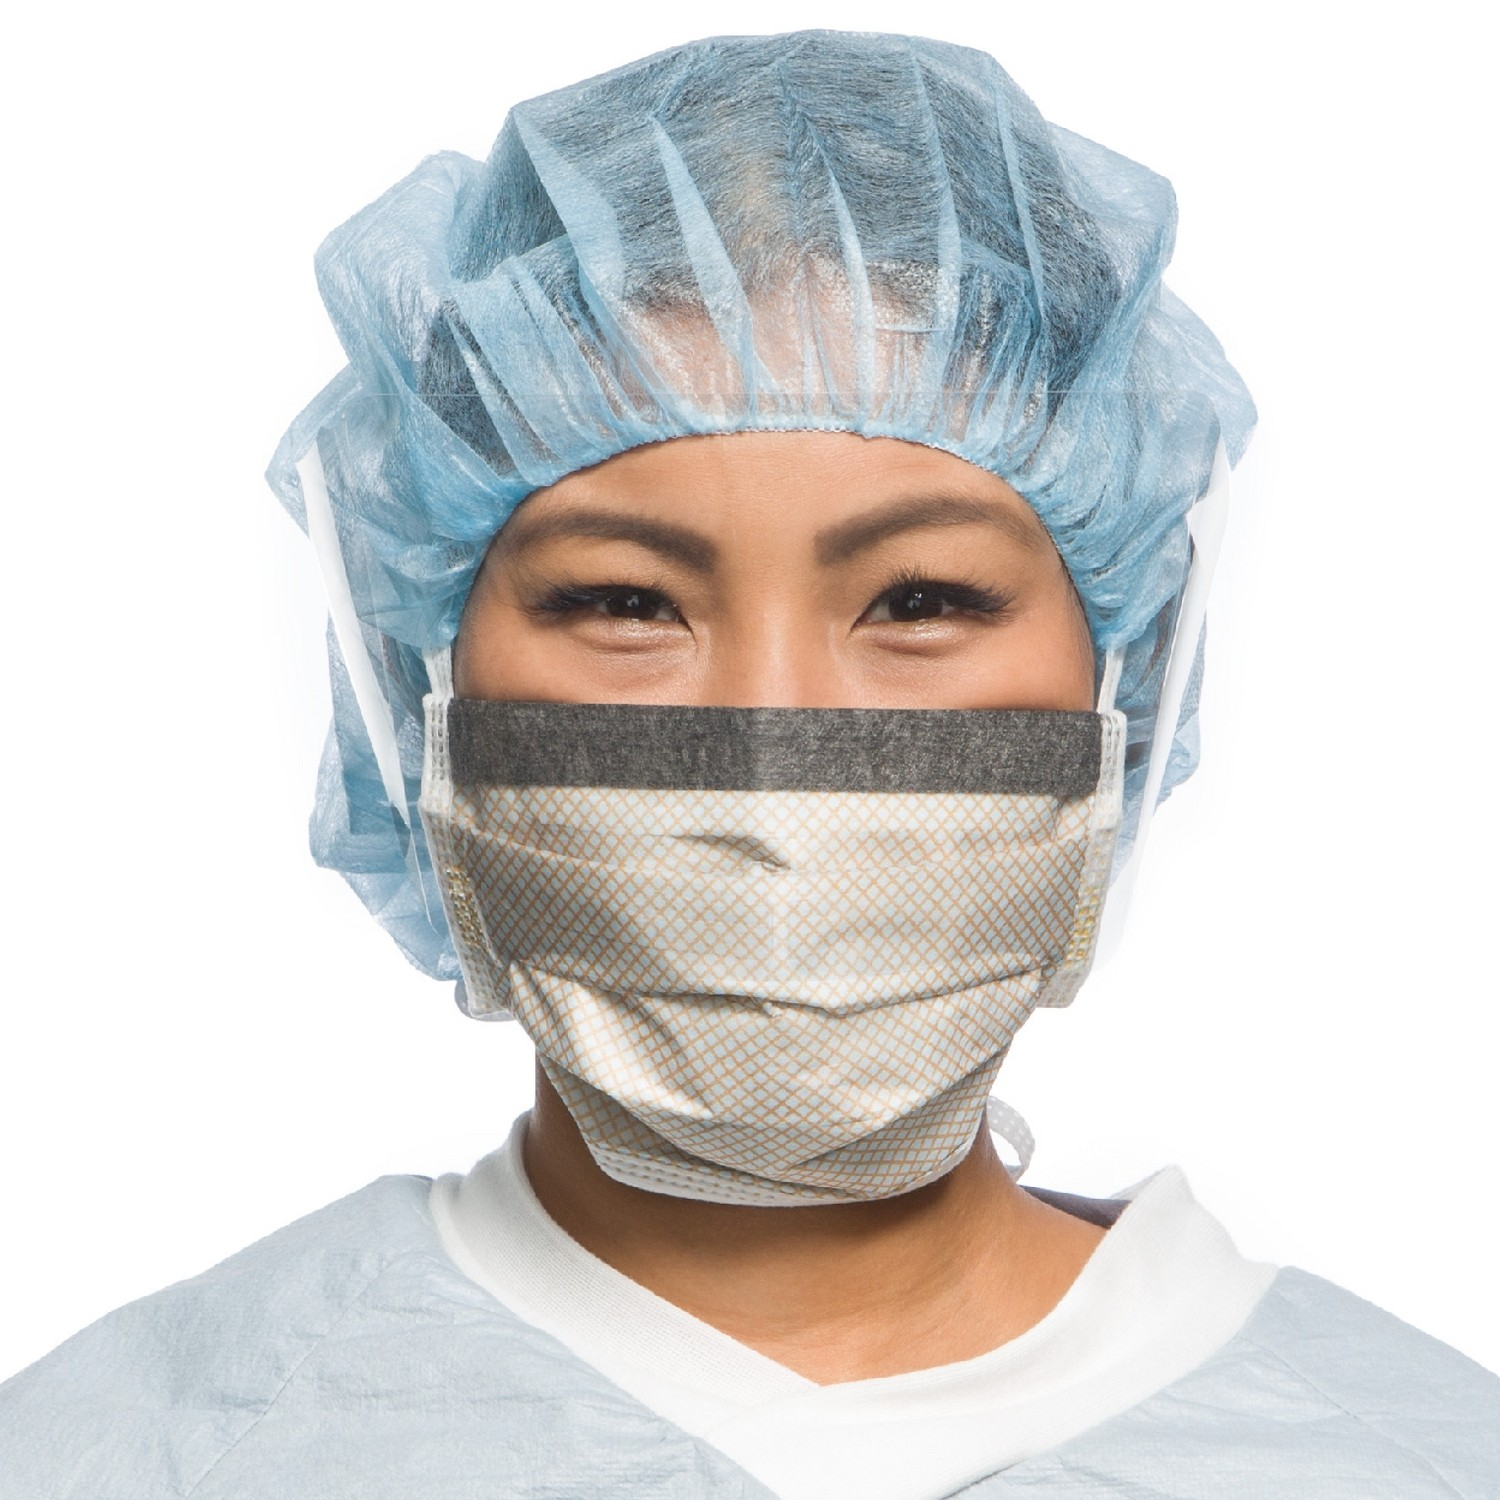mask: (455, 688, 1102, 1209)
